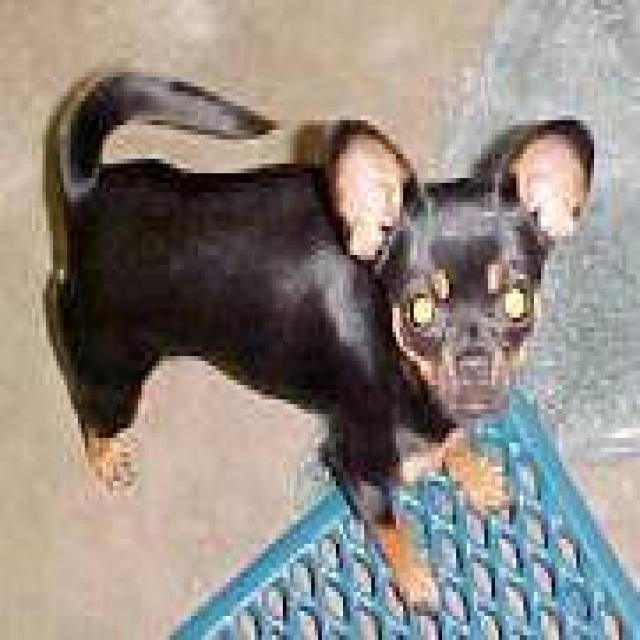dog: (39, 67, 594, 616)
